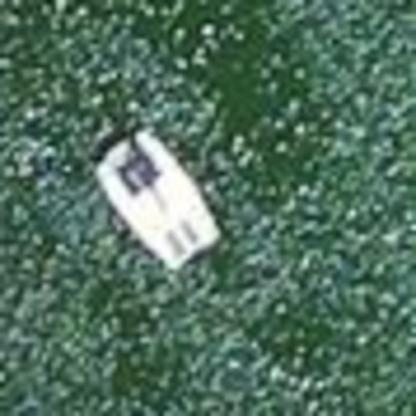ship: (81, 118, 235, 283)
